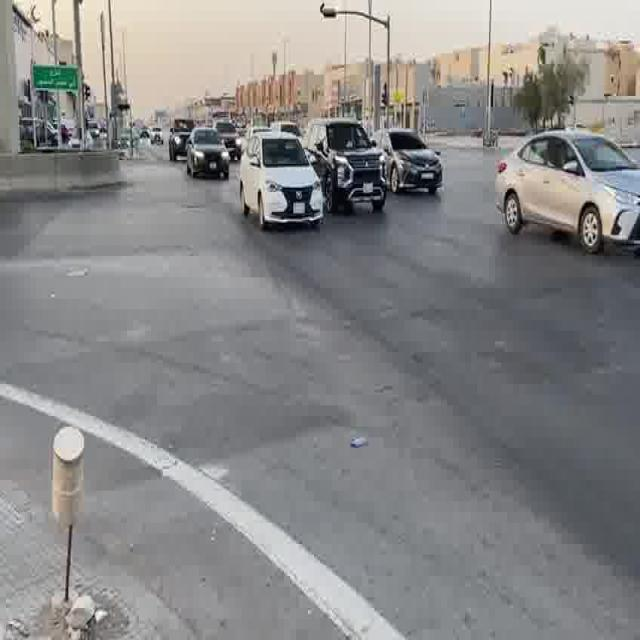bus: (495, 130, 639, 253), (239, 130, 326, 232), (303, 117, 387, 215), (382, 129, 443, 195), (188, 131, 230, 180), (217, 121, 241, 154), (169, 129, 189, 159)
car: (179, 209, 640, 640), (495, 130, 639, 253), (239, 130, 326, 232), (303, 117, 387, 215), (382, 129, 443, 195), (188, 131, 230, 180), (217, 121, 241, 154), (169, 129, 189, 159)
lanes: (179, 209, 640, 640), (226, 209, 639, 634)
lanes2: (226, 209, 639, 634), (260, 205, 640, 474)
lanes3: (260, 205, 640, 474), (286, 201, 640, 404)
lanes4: (286, 201, 640, 404), (327, 192, 640, 313)
lanes5: (327, 192, 640, 313)
